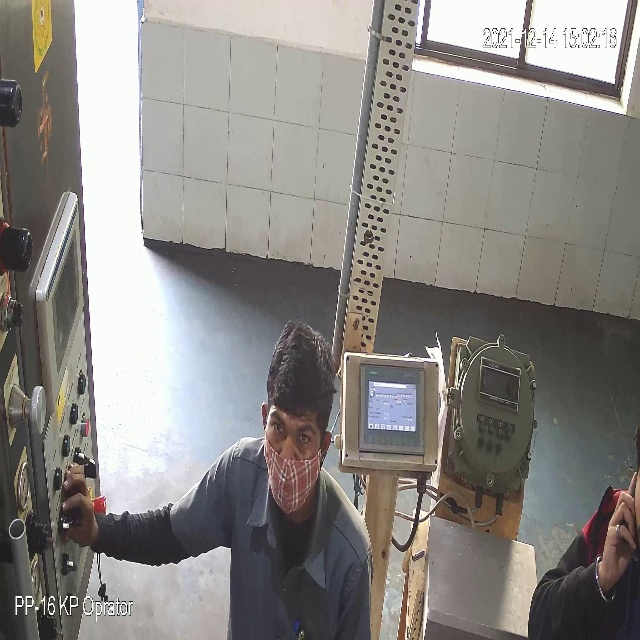Sin_gafas: (268, 405, 320, 454)
